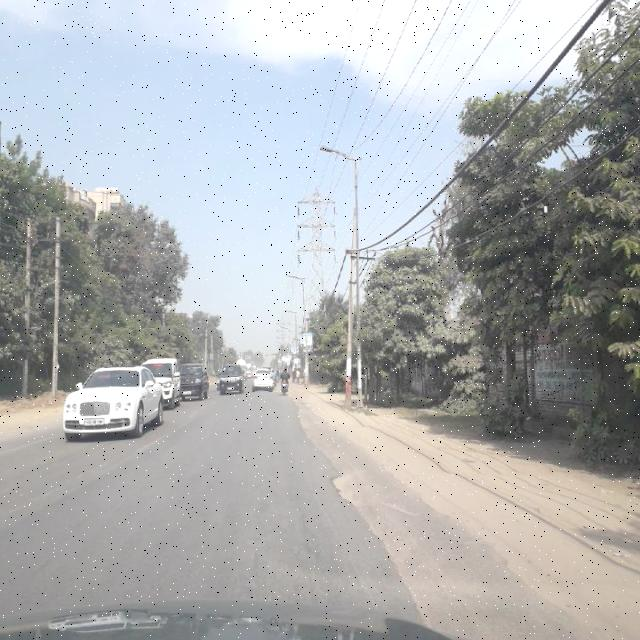D00: (362, 512, 426, 618), (300, 410, 364, 510)
D40: (331, 468, 368, 514)
